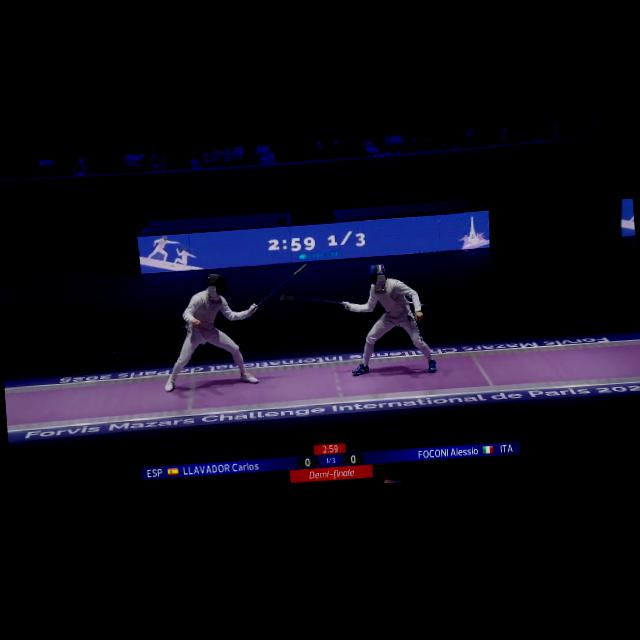blade: (244, 260, 312, 310), (278, 286, 352, 315)
